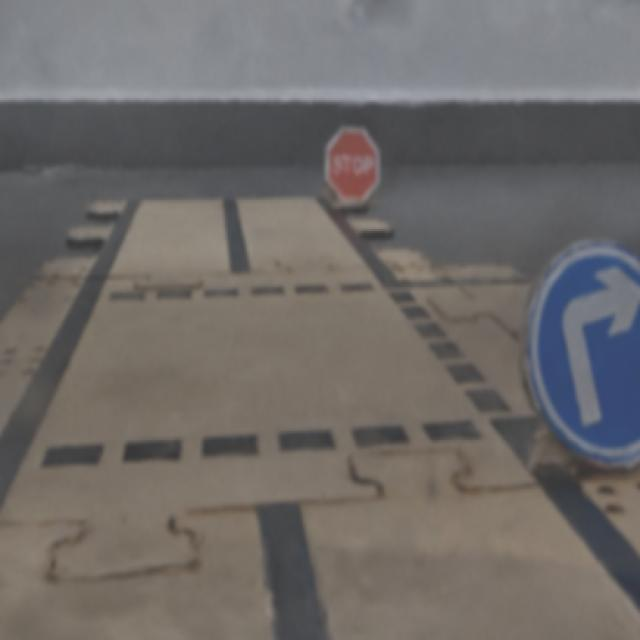RIGHT: (522, 242, 639, 465)
STOP: (325, 127, 380, 202)
